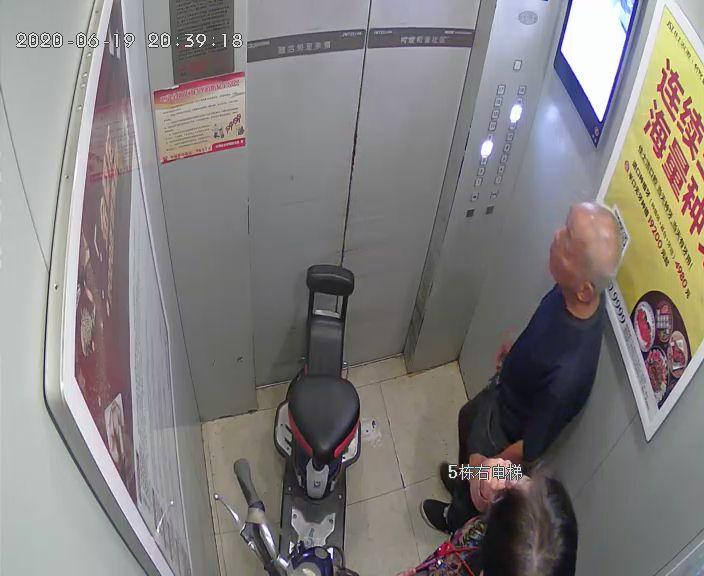Electric-bicycle: (212, 264, 363, 574)
